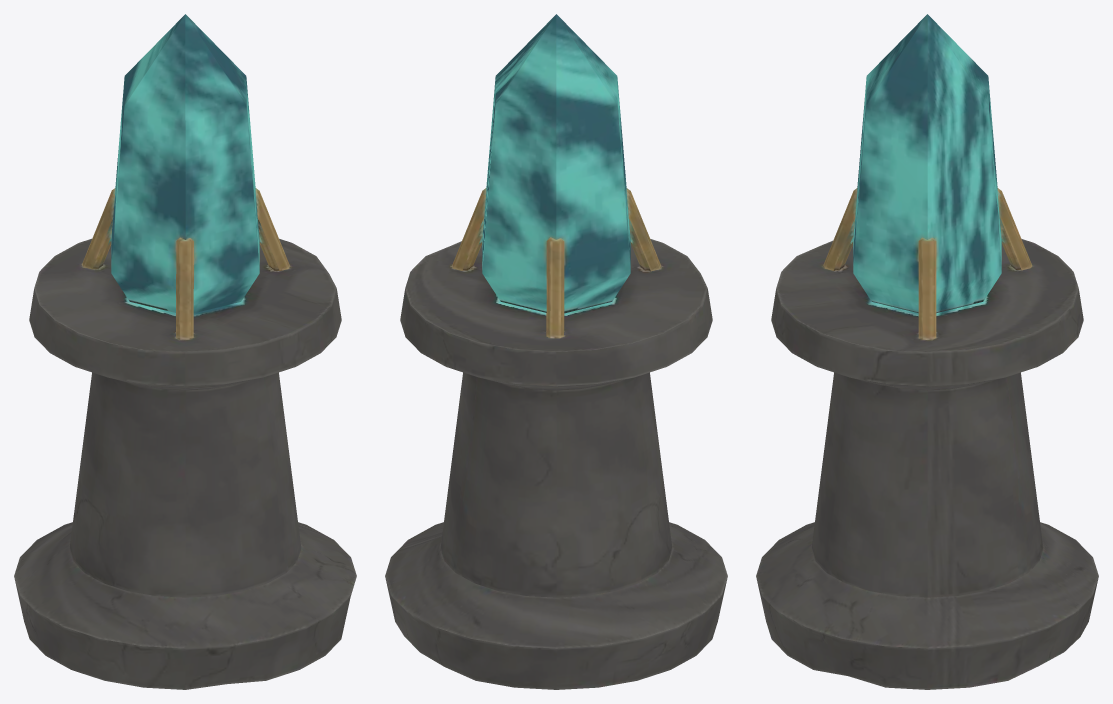
The model's file is crystal_pedestal.glb.
The picture shows the model from 3 angles, left to right: view 1: azimuth 30°, elevation 25°; view 2: azimuth 150°, elevation 25°; view 3: azimuth 270°, elevation 25°; orthographic projection.
Parts seen in each view (by area): view 1: crystal_pedestal; view 2: crystal_pedestal; view 3: crystal_pedestal.
Boxes of the visible parts, box(x1,y1,x2,y2) form: crystal_pedestal: box(14, 14, 356, 689); crystal_pedestal: box(385, 14, 727, 689); crystal_pedestal: box(756, 14, 1098, 689).
Bounding box in the file's own units: 0.68 × 1.33 × 0.68.
Materials: 1 (1 with a texture image).
